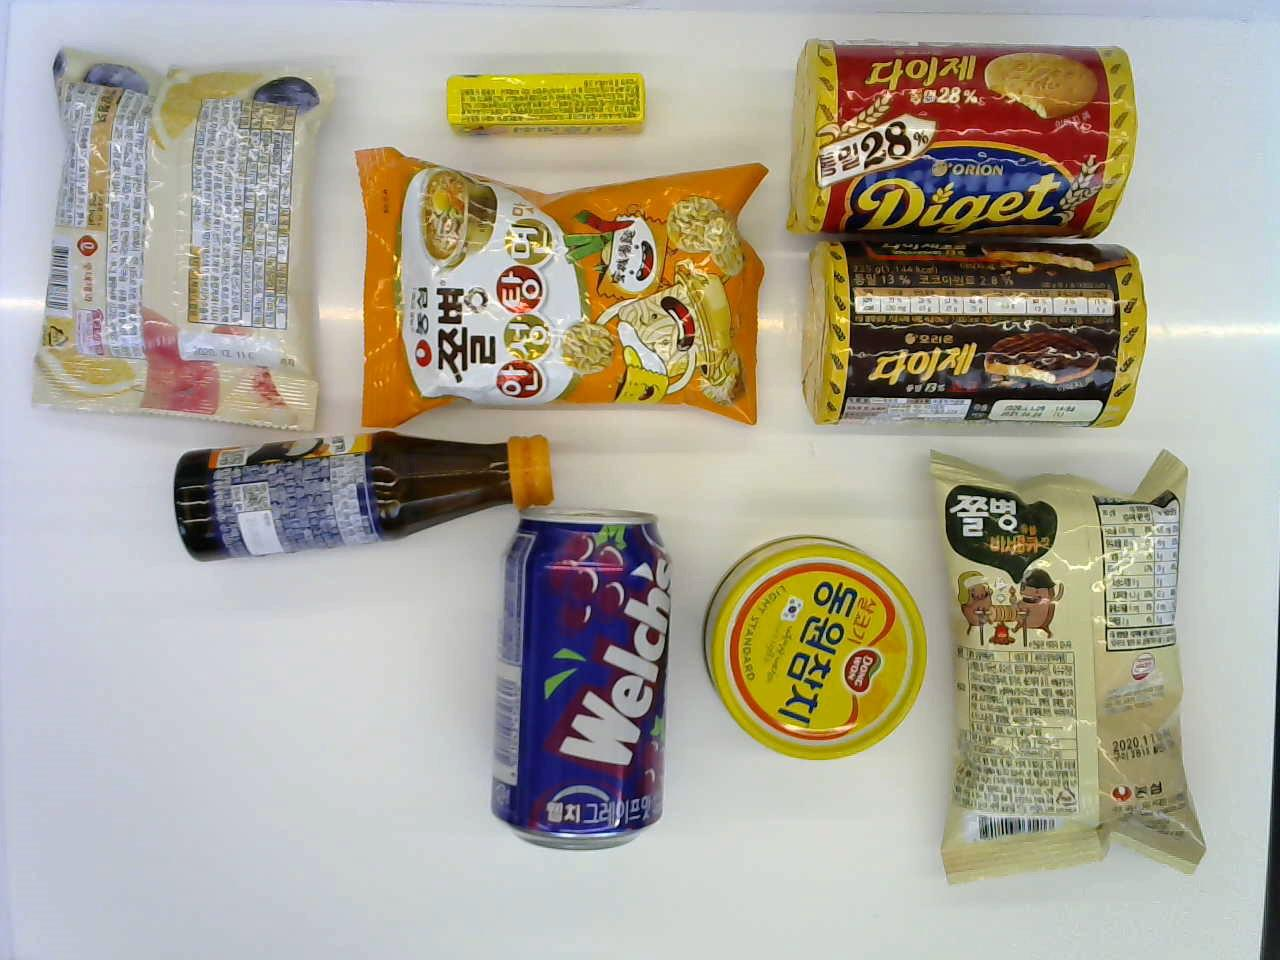diget_choco: (803, 229, 1160, 441)
diget_ori: (782, 24, 1138, 237)
gumi_gumi: (25, 45, 327, 431)
jjolbyung_noodle: (350, 140, 767, 419)
jjolbyung_ori: (927, 444, 1196, 898)
juicyfresh: (428, 69, 653, 145)
tuna: (703, 532, 926, 761)
vita500: (172, 422, 564, 571)
welchs: (501, 502, 677, 857)
